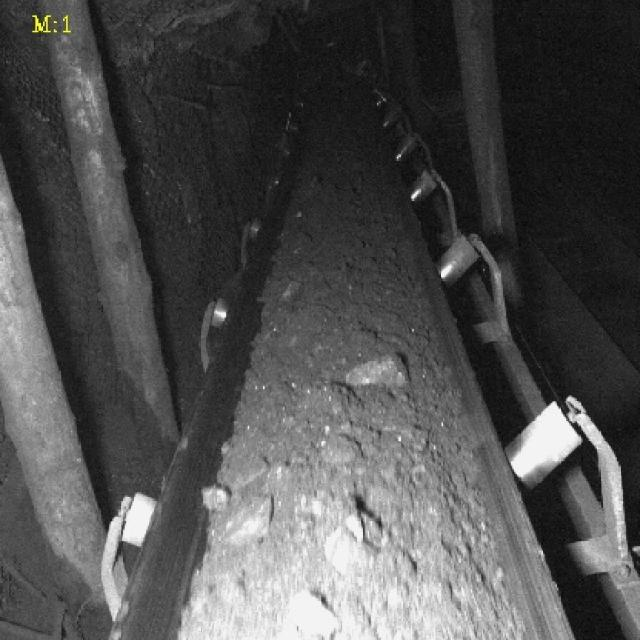large_sized_coal: (325, 517, 380, 574), (218, 497, 282, 545), (286, 590, 340, 638), (345, 355, 412, 391), (322, 436, 363, 464)
